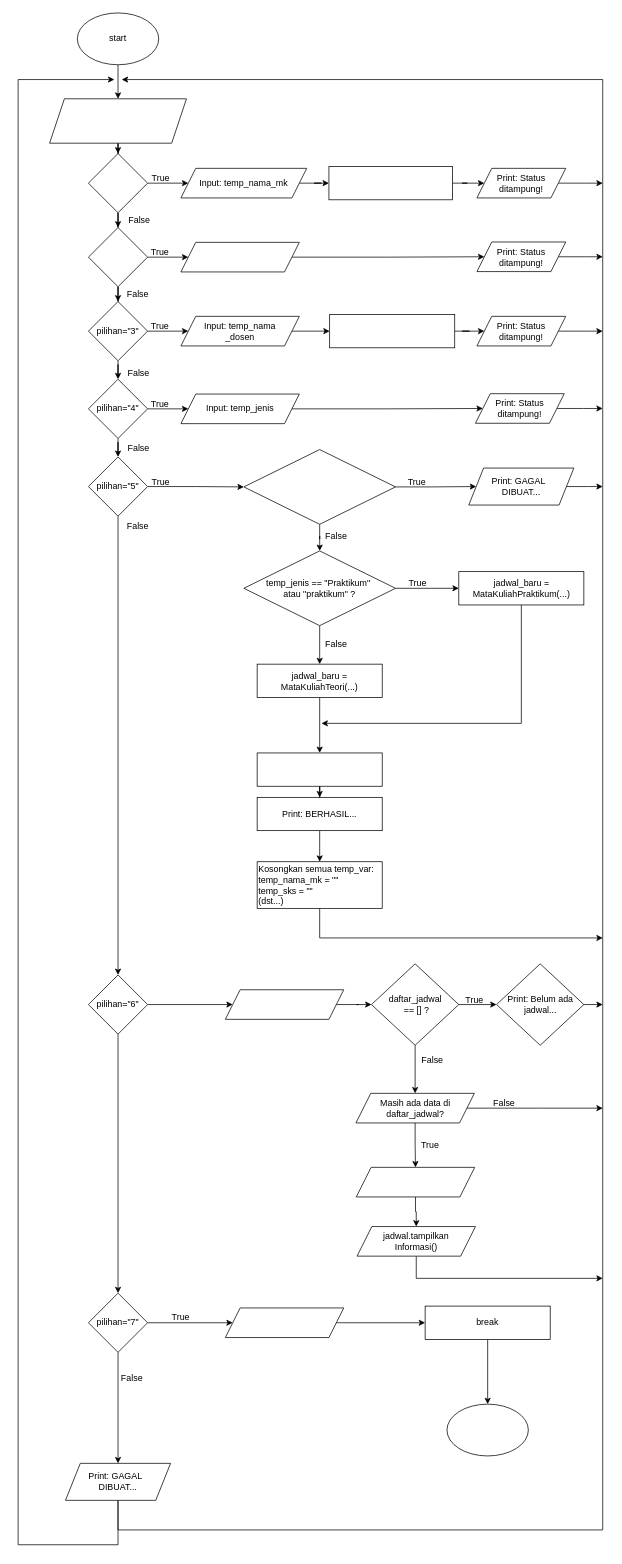
Image size: 622x1564. Some labels were removed from this diagram. Here are the shapes that lost their labels. From the top down, the centre of each, then its label:
[117,120]: Print: daftar menu 1-7 Input: pilihan_menu
[118,183]: pilihan="1"
[390,183]: Input: temp_sks
[118,257]: pilihan="2"
[239,257]: Input: temp_kelas
[392,331]: Input: temp_nip_dosen
[319,486]: Cek: Apakah ada variabel temp yang masing kosong?
[319,769]: daftar_jadwal. append(jadwal_baru)
[284,1004]: Print: DAFTAR JADWAL TERSIMPAN
[415,1182]: Print: baris kosong (print())
[284,1322]: Print: Terima kasih...
[487,1429]: end
